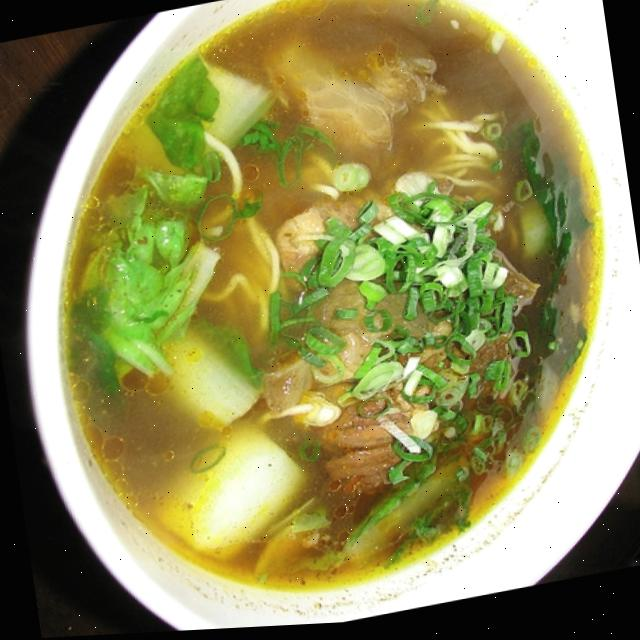面条主食: (18, 0, 640, 629)
